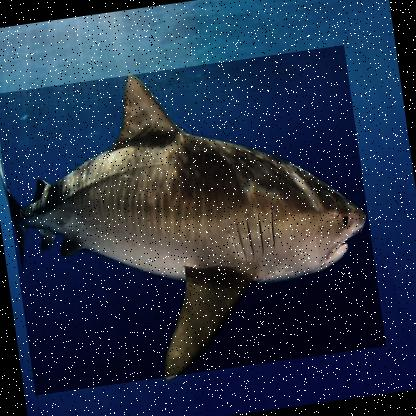tiger-shark: (0, 45, 387, 397)
